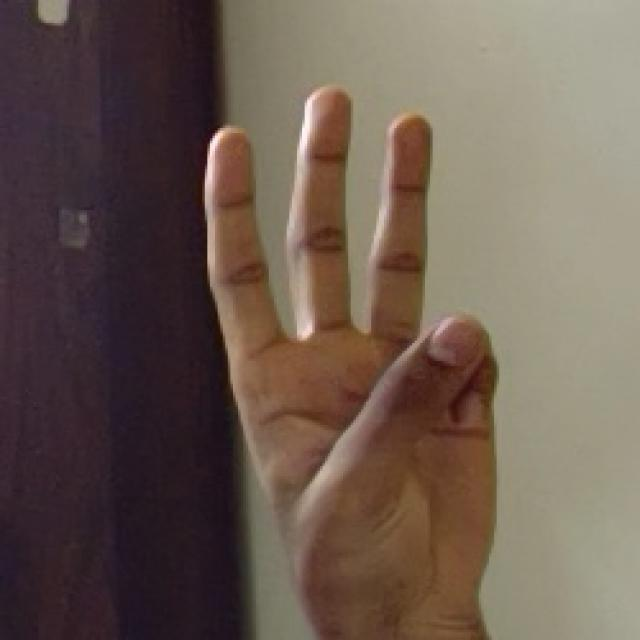Numeric-6: (194, 62, 514, 633)
